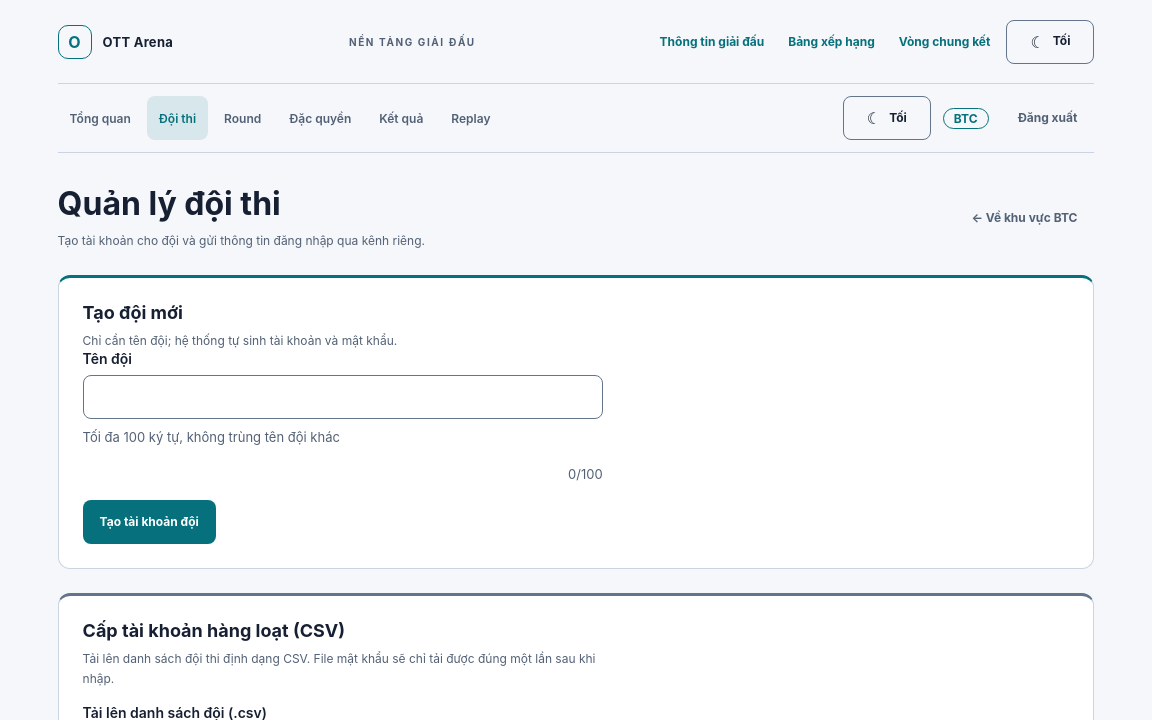
Test: BTC team provisioning › does not render malformed one-time credential responses
The image size is (1152, 720).
Type "Epsilon" into the field labelled "Tên đội" at (343, 397), box left=83, top=375, right=603, bottom=419
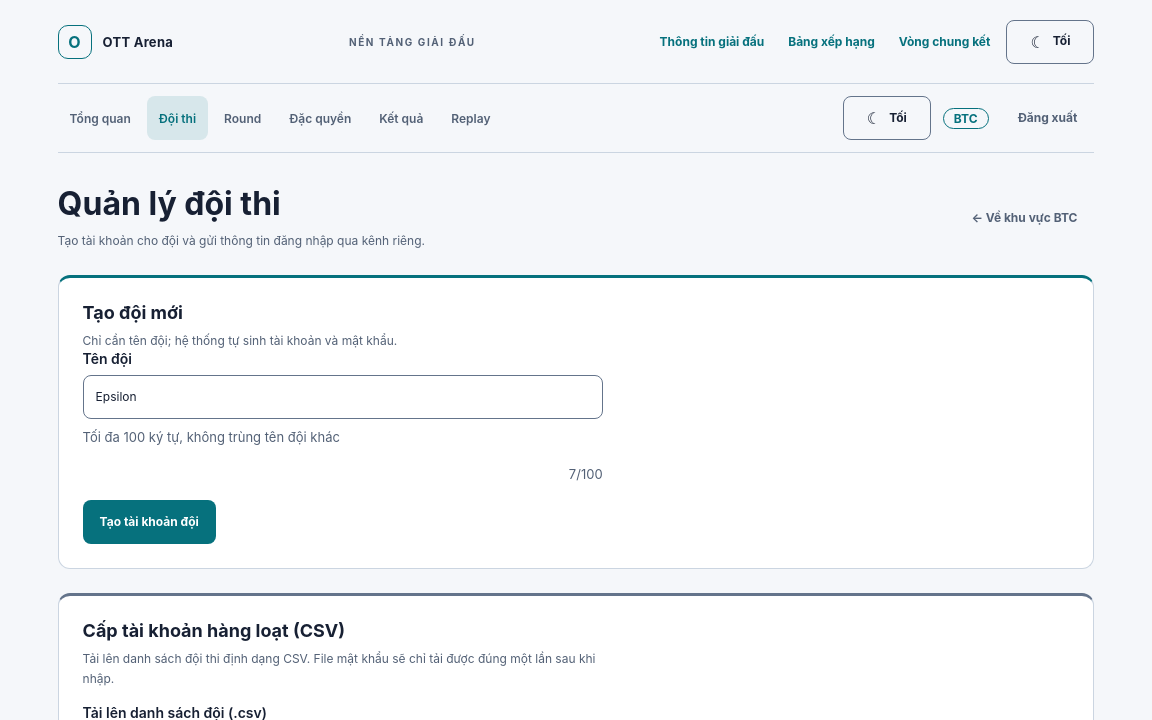
Submit the form named "tạo đội", box left=83, top=350, right=603, bottom=544
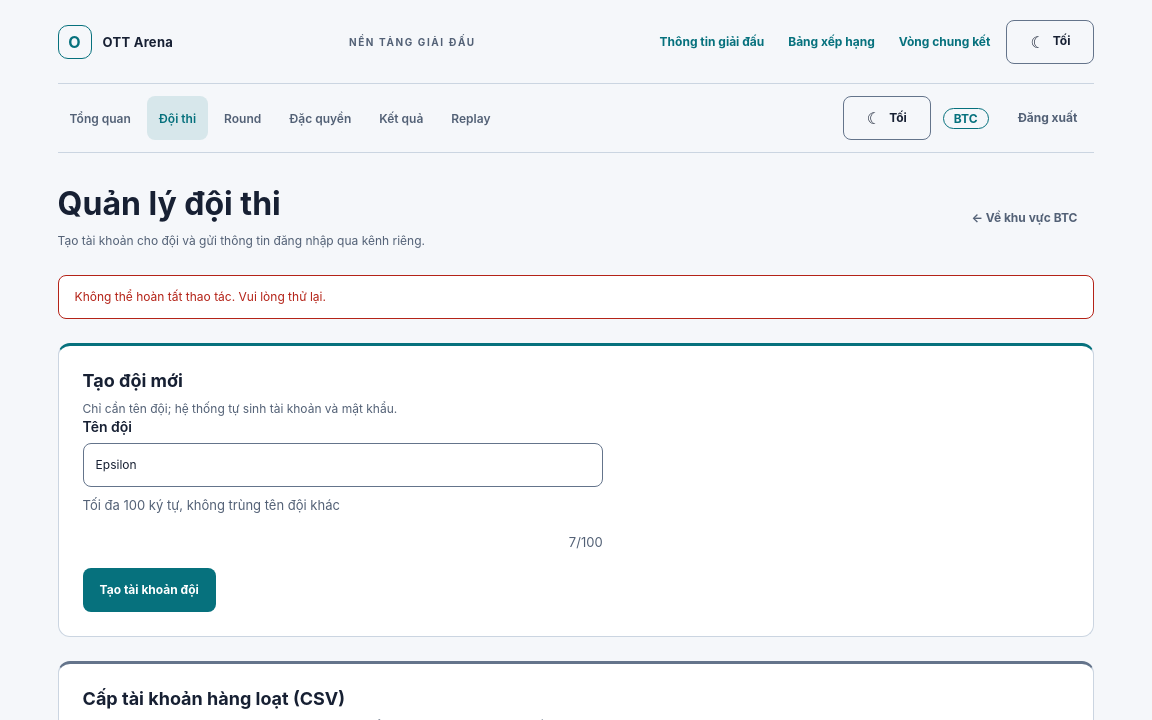
Expected: the message "Không thể hoàn tất thao tác. Vui lòng thử lại." is shown, left=58, top=275, right=1094, bottom=319
